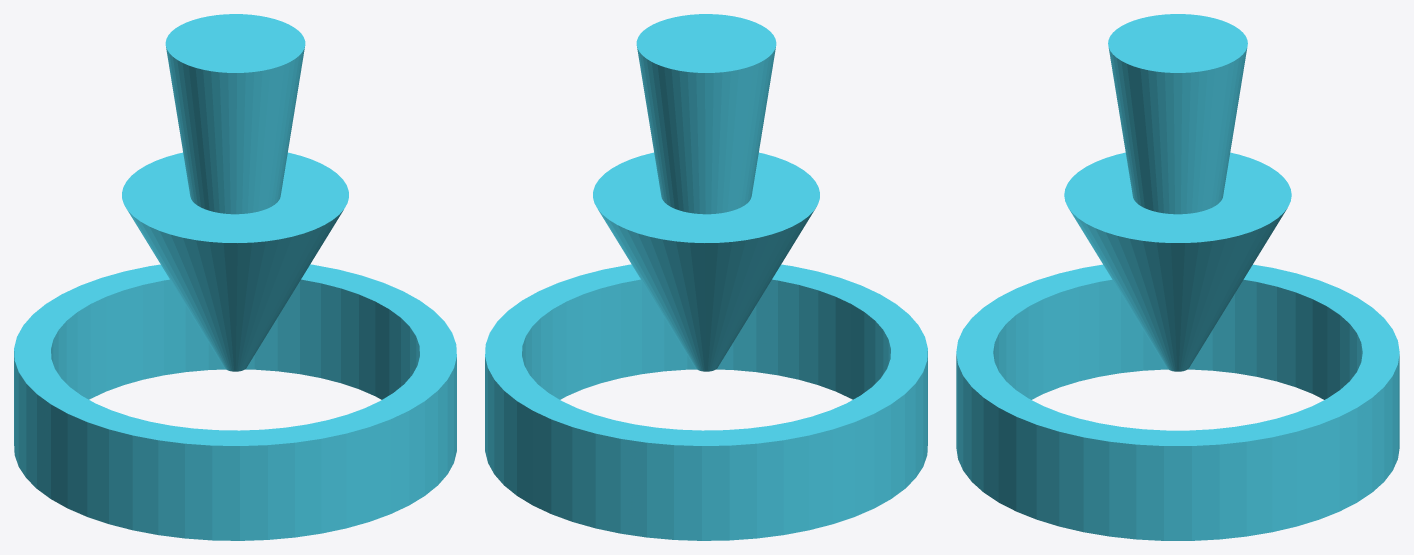
The model's file is Indicator.glb.
3 renders of one model, left to right at view 1: azimuth 30°, elevation 25°; view 2: azimuth 150°, elevation 25°; view 3: azimuth 270°, elevation 25°, orthographic.
Visible parts, largest first — view 1: Indicator; view 2: Indicator; view 3: Indicator.
Part boxes in pixels (x1,y1,x2,y2): Indicator: (14, 14, 456, 540); Indicator: (485, 14, 927, 540); Indicator: (956, 14, 1399, 540).
Bounding box in the file's own units: 1.44 × 1.45 × 1.44.
